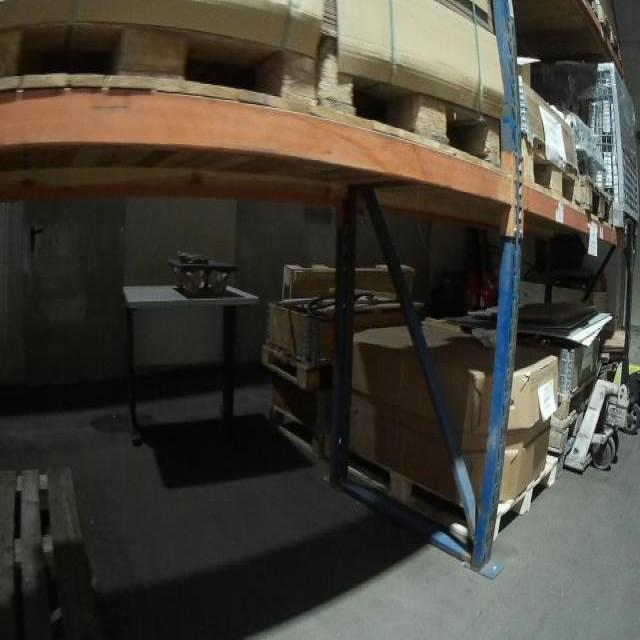pallet: (2, 15, 323, 116), (333, 431, 563, 546), (315, 44, 510, 177), (1, 455, 110, 637), (266, 332, 414, 393), (497, 121, 584, 219), (265, 397, 338, 474), (550, 372, 605, 427), (580, 4, 626, 69), (550, 406, 604, 457), (584, 161, 611, 229)
pallet_truck: (522, 210, 640, 482)
stillage: (528, 55, 636, 234)
